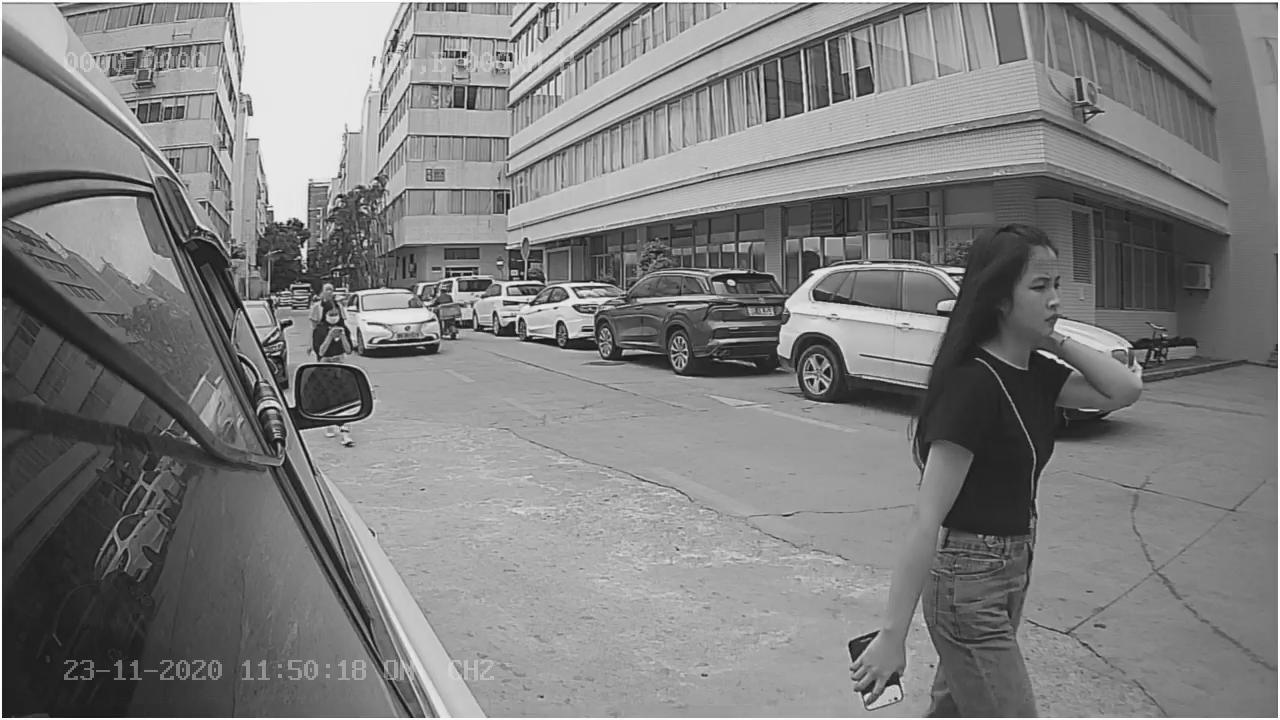person: (905, 211, 1142, 498)
